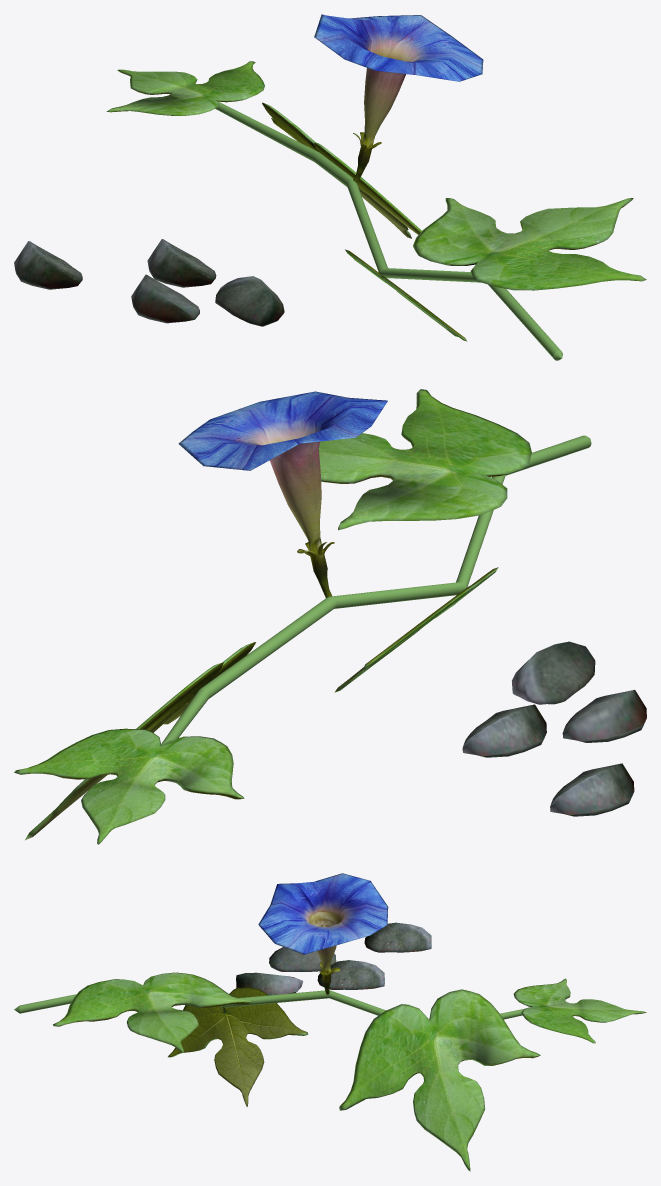
Rendered from qianniuzi.FBX.
The picture shows the model from 3 angles, top to bottom: view 1: azimuth 30°, elevation 25°; view 2: azimuth 150°, elevation 25°; view 3: azimuth 270°, elevation 25°; orthographic projection. The views are drawn at different scales.
Visible parts, largest first — view 1: Line001, Cylinder001, Line008, Cylinder002, Line004, Line007, Line002, Line003, Line005, Line006; view 2: Line001, Cylinder001, Line008, Cylinder002, Line004, Line002, Line005, Line003, Line007, Line006; view 3: Line007, Cylinder001, Line001, Line006, Line008, Cylinder002, Line002, Line005, Line004, Line003.
Boxes of the visible parts, x1,y1,x2,y2 form: Line001: [413, 198, 646, 290]; Cylinder001: [314, 14, 483, 182]; Line008: [106, 61, 264, 115]; Cylinder002: [215, 101, 562, 360]; Line004: [215, 276, 284, 326]; Line007: [262, 102, 421, 238]; Line002: [14, 241, 82, 289]; Line003: [131, 274, 199, 323]; Line005: [147, 239, 216, 287]; Line006: [345, 249, 467, 341]; Line001: [318, 389, 531, 530]; Cylinder001: [178, 391, 387, 597]; Line008: [14, 728, 244, 844]; Cylinder002: [161, 435, 591, 745]; Line004: [512, 641, 595, 704]; Line002: [550, 763, 634, 816]; Line005: [462, 704, 546, 757]; Line003: [562, 690, 646, 742]; Line007: [25, 642, 255, 840]; Line006: [334, 567, 498, 692]; Line007: [339, 989, 540, 1171]; Cylinder001: [258, 873, 388, 994]; Line001: [53, 972, 253, 1052]; Line006: [168, 987, 308, 1106]; Line008: [513, 978, 646, 1043]; Cylinder002: [14, 990, 524, 1019]; Line002: [364, 922, 431, 952]; Line005: [317, 960, 384, 989]; Line004: [236, 972, 303, 995]; Line003: [269, 947, 336, 971].
Size of the model in its own units: 58.37 by 36.84 by 90.49.
Materials: 1 (1 with a texture image).
